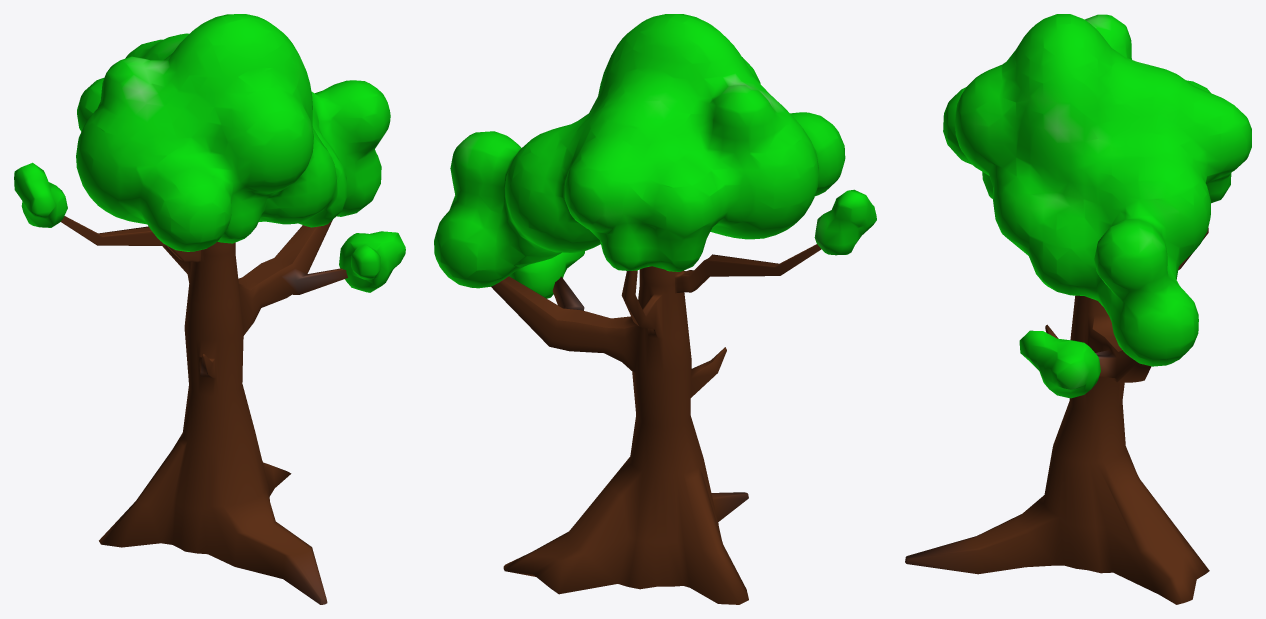
Rendered from Arvore.fbx.
3 views of the same model, side by side, from view 1: azimuth 30°, elevation 25°; view 2: azimuth 150°, elevation 25°; view 3: azimuth 270°, elevation 25° (orthographic).
Visible parts, largest first — view 1: Cylinder; view 2: Cylinder; view 3: Cylinder.
Boxes of the visible parts, bbox=[...] form: Cylinder: bbox=[14, 14, 405, 604]; Cylinder: bbox=[434, 14, 876, 604]; Cylinder: bbox=[905, 14, 1251, 604].
Bounding box in the file's own units: 807 × 1050 × 617.
